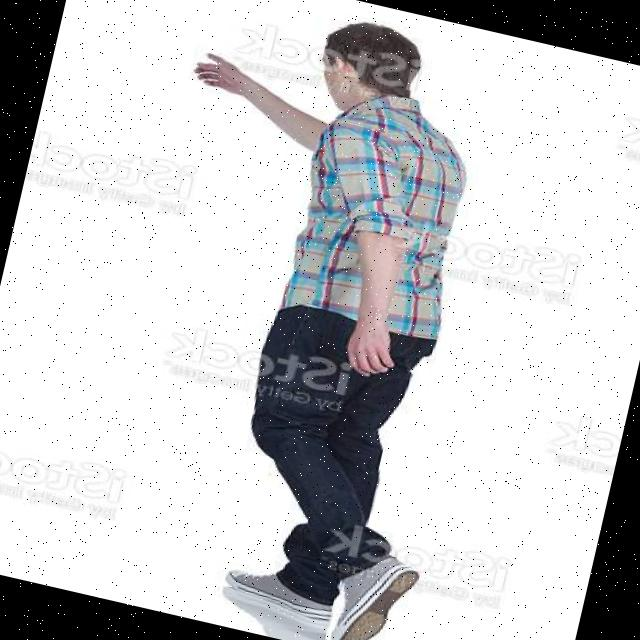Person: (75, 0, 539, 640)
